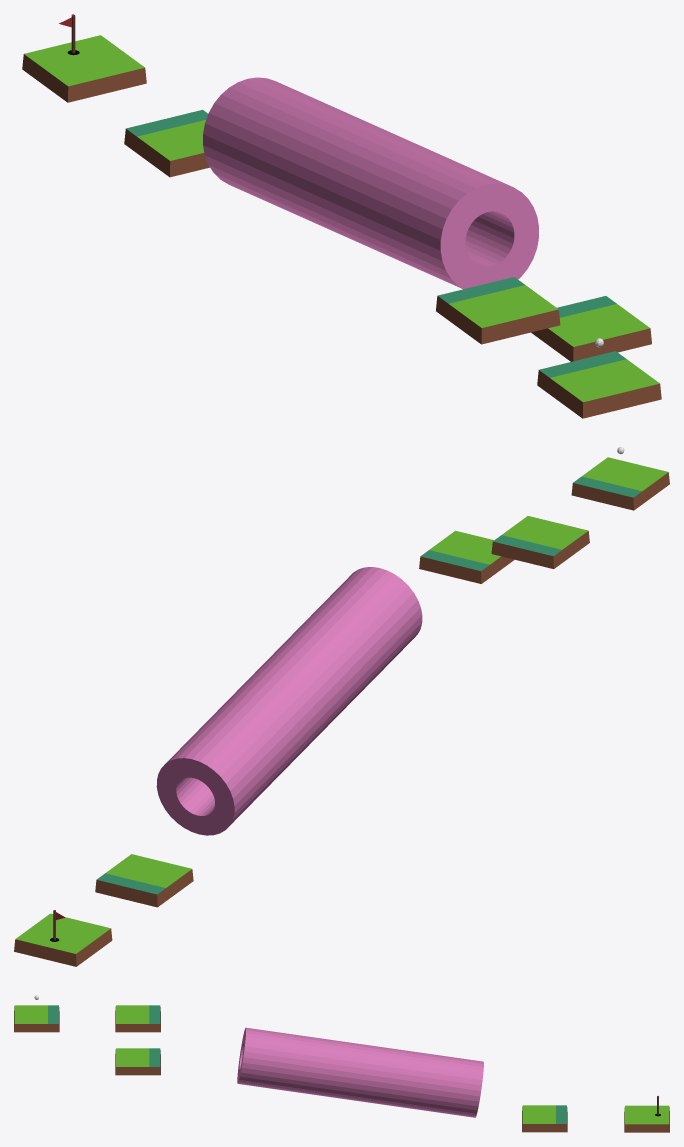
File: level6.glb
3 views of the same model, one above another, from view 1: azimuth 30°, elevation 25°; view 2: azimuth 150°, elevation 25°; view 3: azimuth 270°, elevation 25° (orthographic). The views are drawn at different scales.
Parts seen in each view (by area): view 1: Cylinder, basic-moveable.001, basic-moveable.002, basic-fixed.001, basic-moveable.003, basic-moveable.004; view 2: Cylinder, basic-moveable.002, basic-moveable.004, basic-moveable.001, basic-fixed.001, basic-moveable.003; view 3: Cylinder, basic-moveable.002, basic-moveable.003, basic-moveable.001, basic-moveable.004, basic-fixed.001.
Part boxes in pixels (bbox=[...]): Cylinder: bbox=[203, 77, 538, 289]; basic-moveable.001: bbox=[537, 351, 661, 418]; basic-moveable.002: bbox=[436, 277, 560, 344]; basic-fixed.001: bbox=[22, 35, 146, 102]; basic-moveable.003: bbox=[531, 296, 651, 361]; basic-moveable.004: bbox=[124, 109, 209, 177]; Cylinder: bbox=[156, 567, 422, 835]; basic-moveable.002: bbox=[491, 516, 589, 568]; basic-moveable.004: bbox=[95, 854, 193, 907]; basic-moveable.001: bbox=[571, 457, 669, 510]; basic-fixed.001: bbox=[14, 913, 112, 966]; basic-moveable.003: bbox=[419, 530, 514, 583]; Cylinder: bbox=[237, 1027, 483, 1117]; basic-moveable.002: bbox=[115, 1005, 160, 1032]; basic-moveable.003: bbox=[115, 1048, 160, 1075]; basic-moveable.001: bbox=[14, 1005, 59, 1032]; basic-moveable.004: bbox=[522, 1105, 567, 1132]; basic-fixed.001: bbox=[624, 1105, 669, 1132].
Bounding box in the file's own units: 4.66 × 5.03 × 28.76.
Materials: 4 (4 with a texture image).
